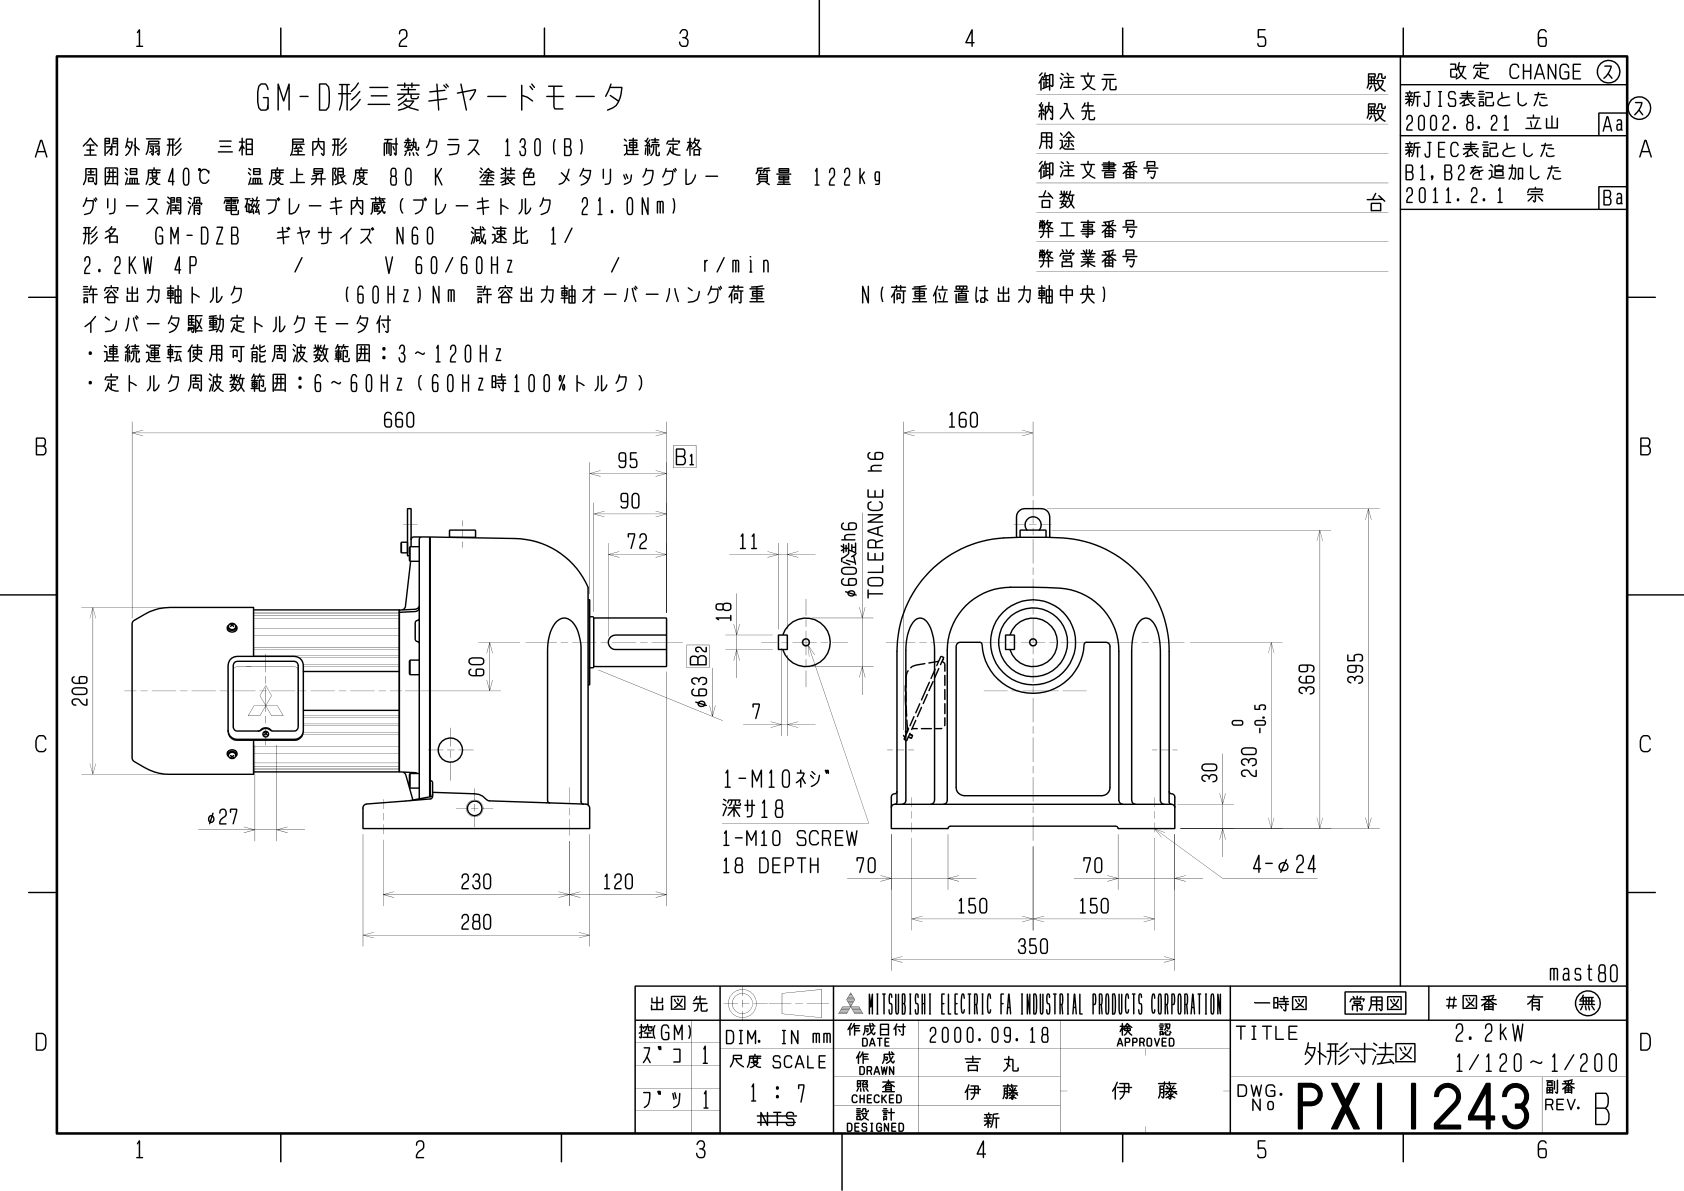GM_D_インバータ屋内_三相_脚: (70, 398, 1399, 971)
